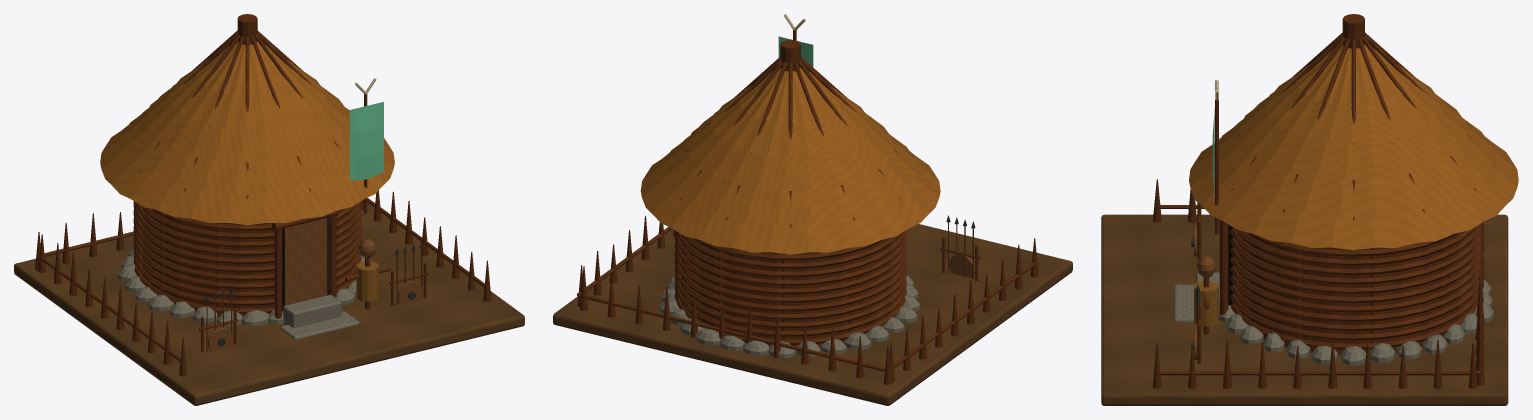
Rendered from edificio-barracks-e0-lod0-04miqbh9.glb.
The picture shows the model from 3 angles, left to right: view 1: azimuth 30°, elevation 25°; view 2: azimuth 150°, elevation 25°; view 3: azimuth 270°, elevation 25°; orthographic projection. The views are drawn at different scales.
Parts seen in each view (by area): view 1: edificio-barracks-e0-lod0_envolvente, edificio-barracks-e0-lod0_detalles, edificio-barracks-e0-lod0_team_color; view 2: edificio-barracks-e0-lod0_envolvente, edificio-barracks-e0-lod0_detalles; view 3: edificio-barracks-e0-lod0_envolvente, edificio-barracks-e0-lod0_detalles.
Part boxes in pixels (x1,y1,x2,y2): edificio-barracks-e0-lod0_envolvente: (14, 41, 524, 405); edificio-barracks-e0-lod0_detalles: (35, 14, 491, 376); edificio-barracks-e0-lod0_team_color: (349, 102, 383, 180); edificio-barracks-e0-lod0_envolvente: (553, 68, 1072, 405); edificio-barracks-e0-lod0_detalles: (577, 14, 1038, 384); edificio-barracks-e0-lod0_envolvente: (1101, 44, 1518, 405); edificio-barracks-e0-lod0_detalles: (1152, 14, 1495, 388).
Size of the model in its own units: 61 by 46.9 by 59.5.
Materials: 3 (2 with a texture image).
